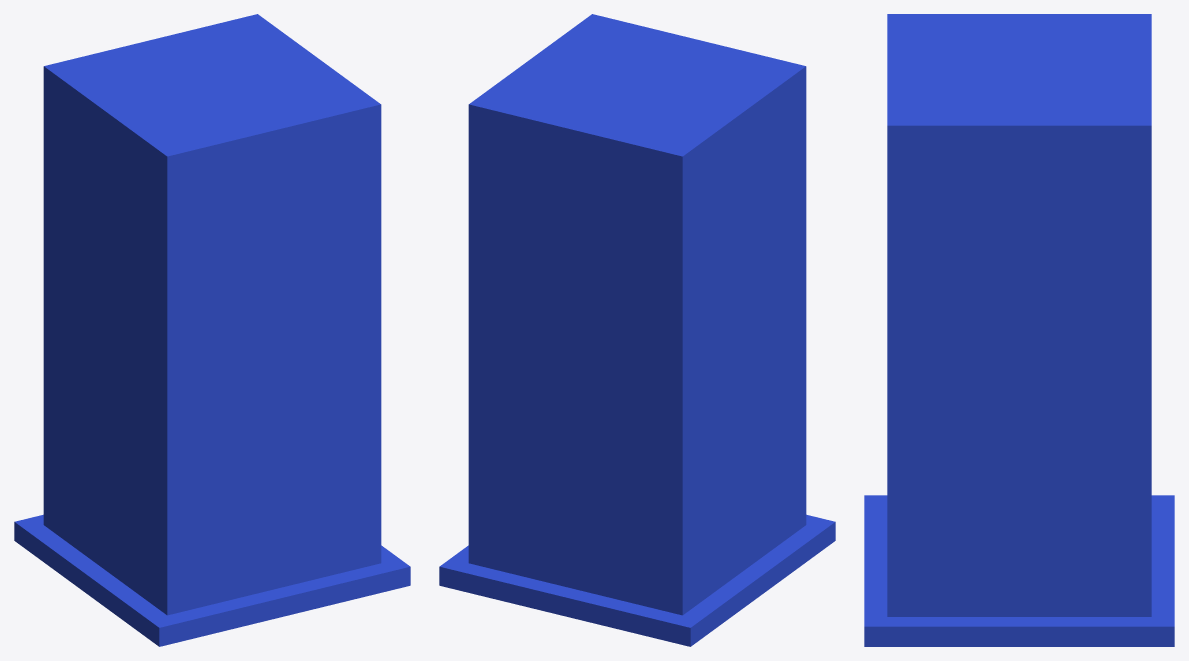
File: blend1.fbx
3 renders of one model, left to right at view 1: azimuth 30°, elevation 25°; view 2: azimuth 150°, elevation 25°; view 3: azimuth 270°, elevation 25°, orthographic. The views are drawn at different scales.
Parts seen in each view (by area): view 1: Cube; view 2: Cube; view 3: Cube.
Part boxes in pixels (bbox=[...]): Cube: bbox=[14, 14, 410, 646]; Cube: bbox=[439, 14, 835, 646]; Cube: bbox=[864, 14, 1174, 646].
Bounding box in the file's own units: 641 × 1166 × 641.
